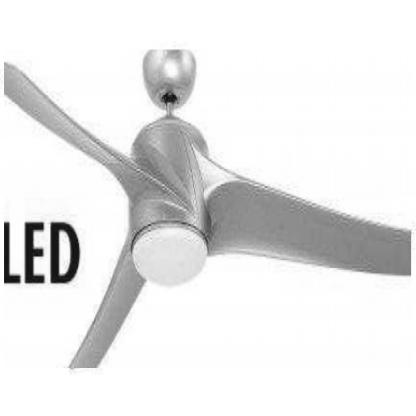ceiling-fan: (5, 50, 413, 369)
